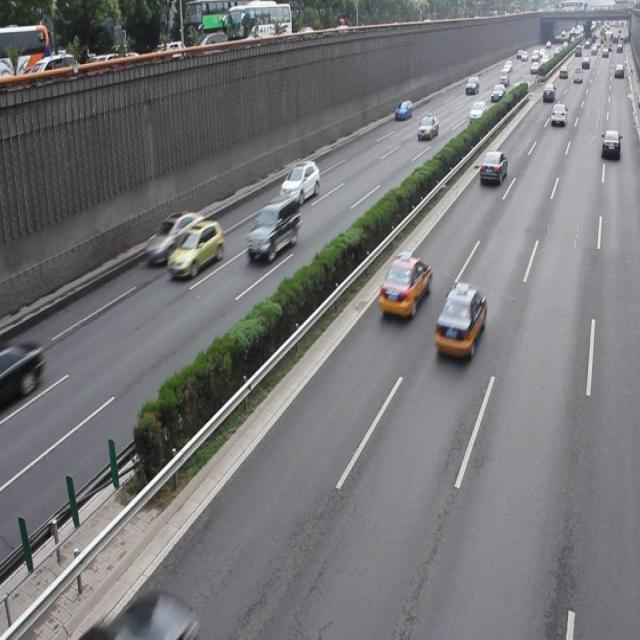car: (433, 282, 485, 360), (246, 192, 300, 264), (377, 252, 431, 320), (145, 208, 207, 266), (167, 218, 224, 279), (1, 339, 45, 410), (280, 159, 320, 205), (478, 148, 506, 186)
